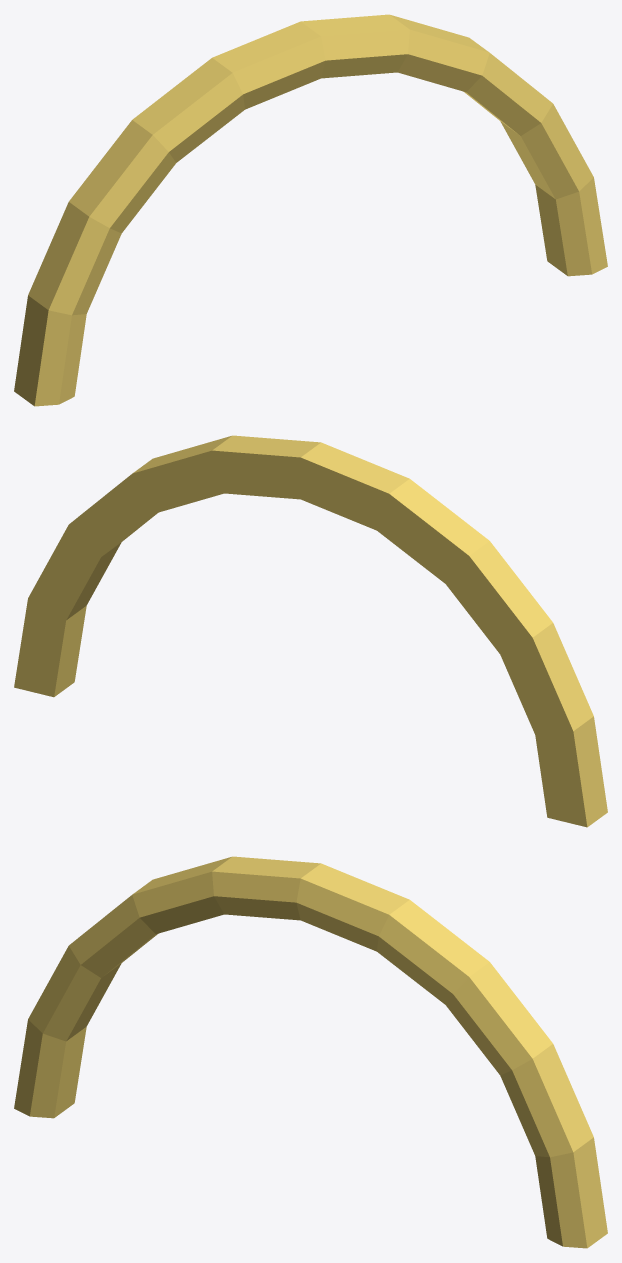
3 views of the same model, one above another, from view 1: azimuth 30°, elevation 25°; view 2: azimuth 150°, elevation 25°; view 3: azimuth 330°, elevation 25° (orthographic).
Parts seen in each view (by area): view 1: 独立纸色带_2_RainbowYellow.001; view 2: 独立纸色带_2_RainbowYellow.001; view 3: 独立纸色带_2_RainbowYellow.001.
Part boxes in pixels (left/top/right/bottom): 独立纸色带_2_RainbowYellow.001: left=14, top=14, right=607, bottom=406; 独立纸色带_2_RainbowYellow.001: left=14, top=435, right=607, bottom=827; 独立纸色带_2_RainbowYellow.001: left=14, top=856, right=607, bottom=1248.
Size of the model in its own units: 1.93 by 0.965 by 0.145.
